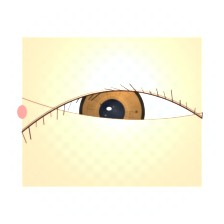pinguecula_lesion: (31, 88, 74, 122)
